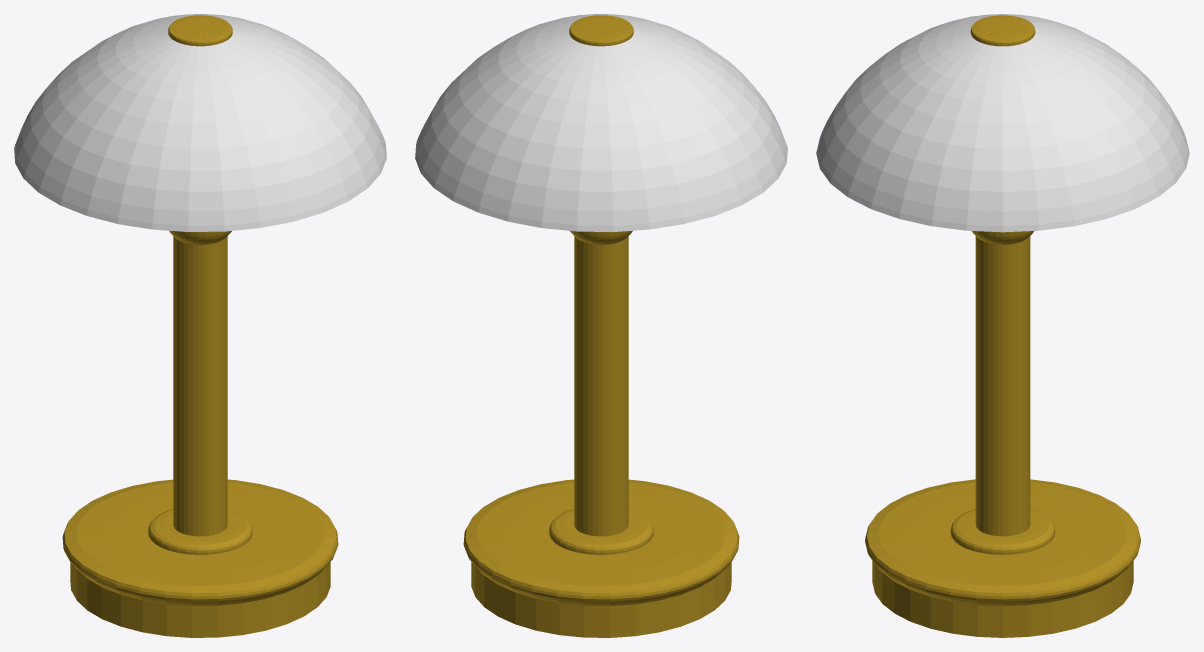
Rendered from desklamp.obj.
3 renders of one model, left to right at view 1: azimuth 30°, elevation 25°; view 2: azimuth 150°, elevation 25°; view 3: azimuth 270°, elevation 25°, orthographic.
Parts seen in each view (by area): view 1: Cylinder.001, Cylinder; view 2: Cylinder.001, Cylinder; view 3: Cylinder.001, Cylinder.
Boxes of the visible parts, box(x1,y1,x2,y2) form: Cylinder.001: box(14, 14, 386, 231); Cylinder: box(62, 230, 338, 637); Cylinder.001: box(415, 14, 787, 231); Cylinder: box(463, 230, 739, 637); Cylinder.001: box(816, 14, 1189, 232); Cylinder: box(865, 231, 1140, 637).
Size of the model in its own units: 24.4 by 40 by 24.4.
